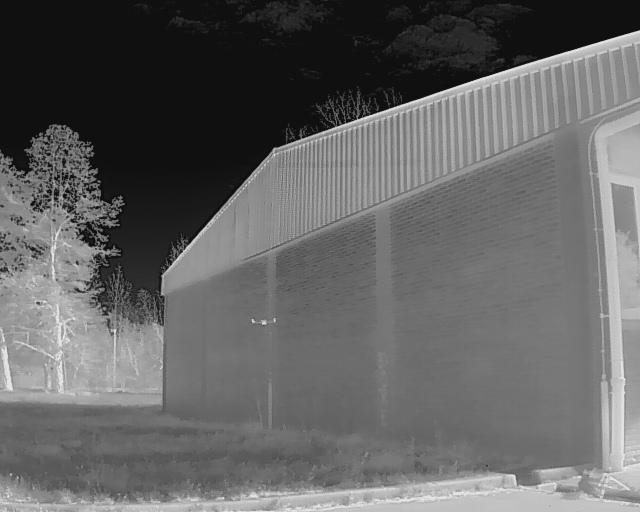drone: (242, 310, 281, 332)
